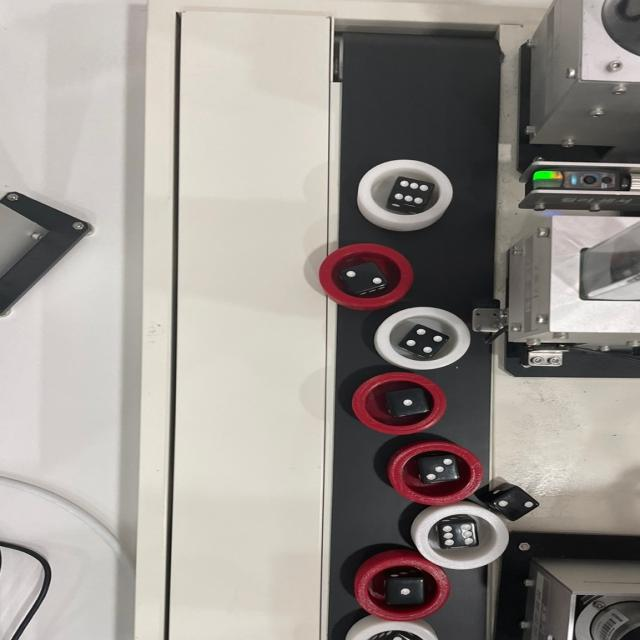DICE1: (391, 392, 424, 414)
DICE2: (342, 264, 384, 292), (494, 491, 540, 515)
DICE3: (415, 456, 464, 486), (387, 576, 419, 604)
DICE4: (404, 325, 448, 356)
DICE6: (437, 520, 481, 548), (391, 179, 432, 206)
RedChip: (390, 440, 490, 506), (352, 373, 454, 435), (320, 243, 408, 310), (356, 557, 450, 618)
WhiteChip: (350, 158, 457, 232), (412, 502, 508, 570), (376, 306, 471, 369), (349, 620, 441, 640)
